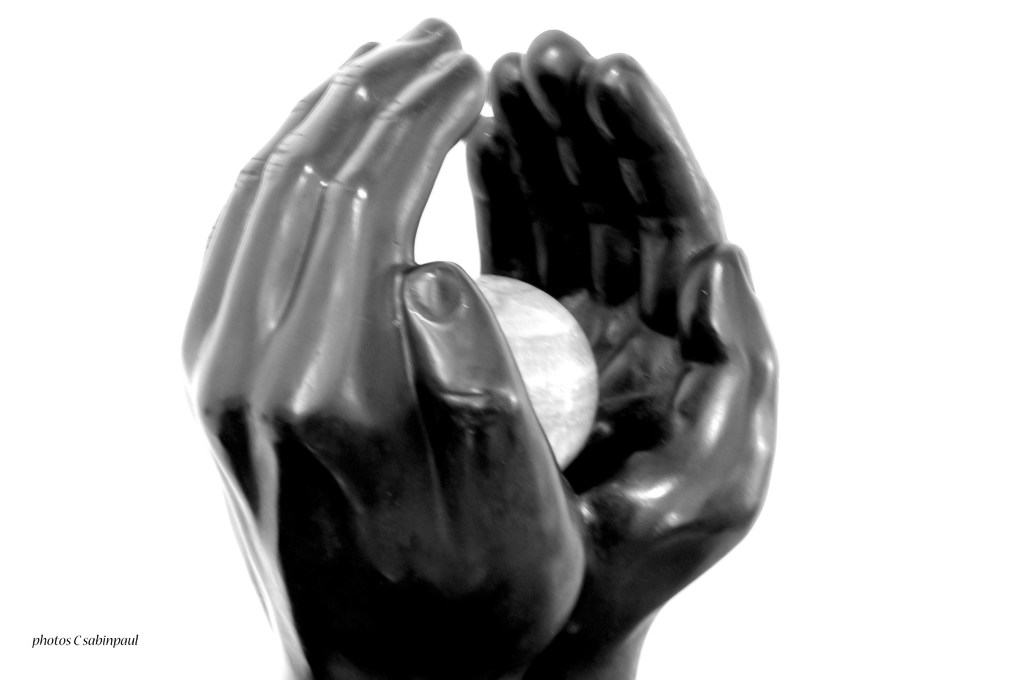Human_hand: (187, 60, 598, 641), (465, 28, 773, 655)
